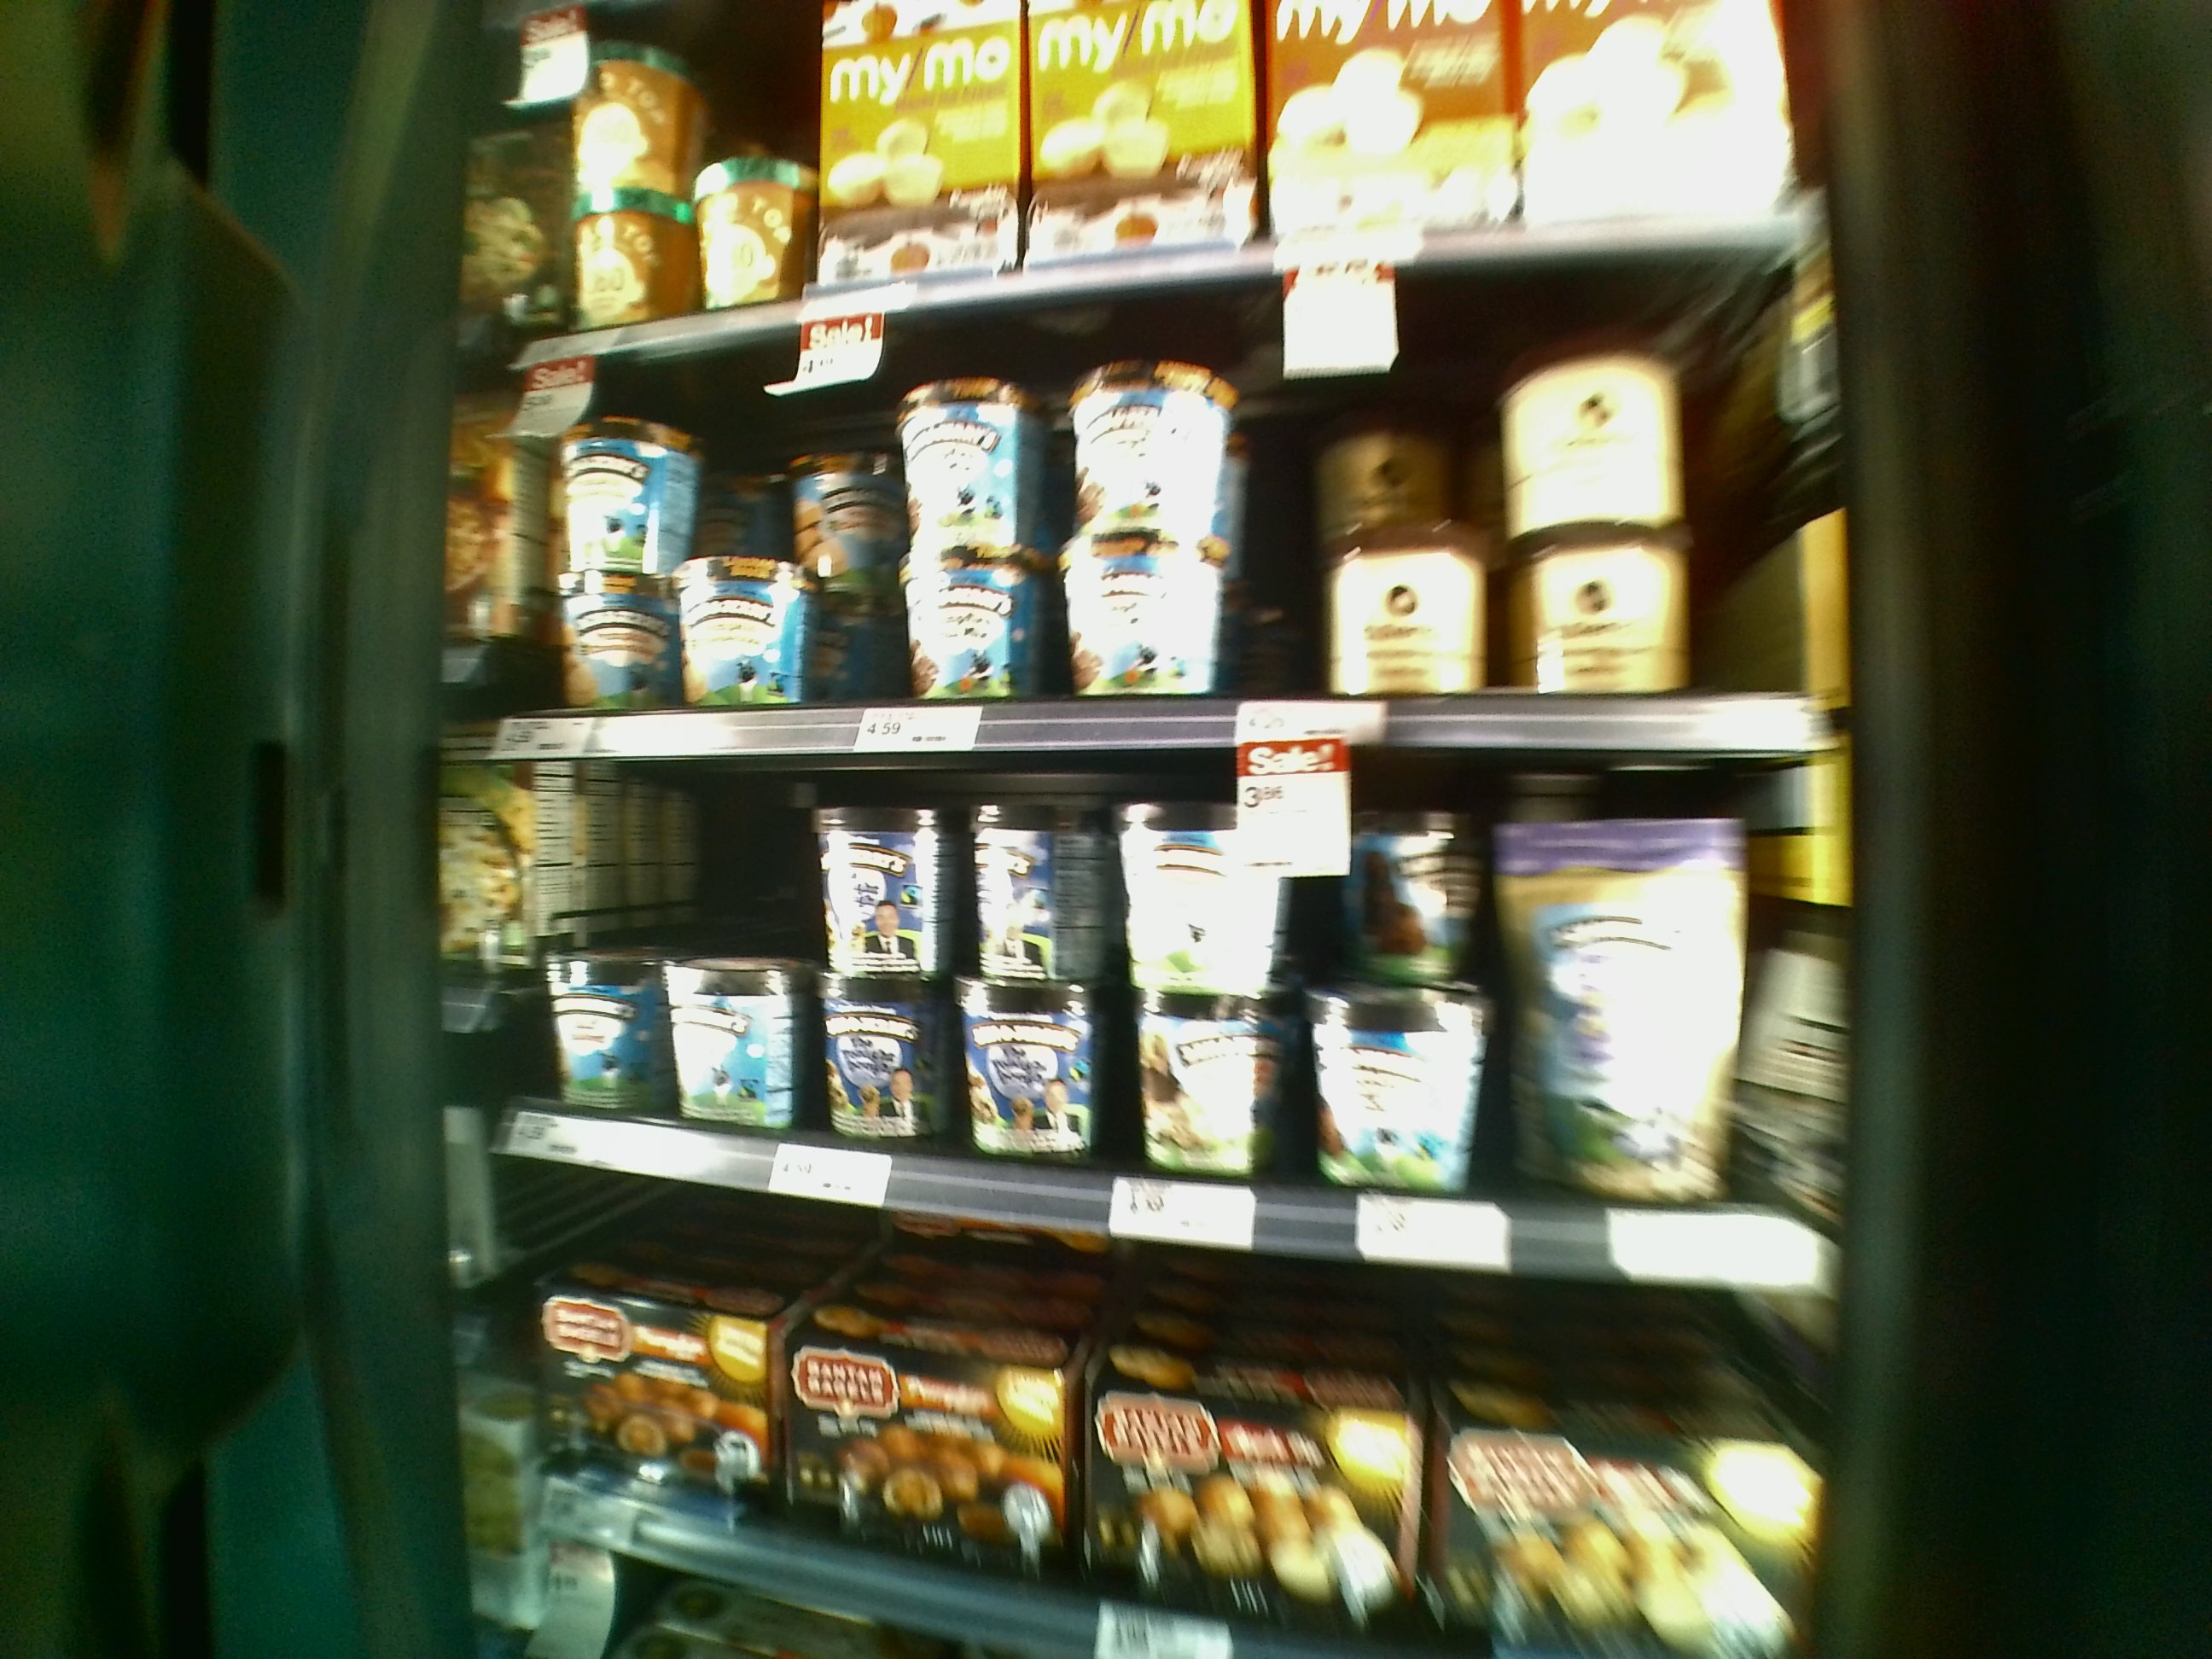shelf: (432, 711, 1820, 1281), (474, 268, 1838, 749)
